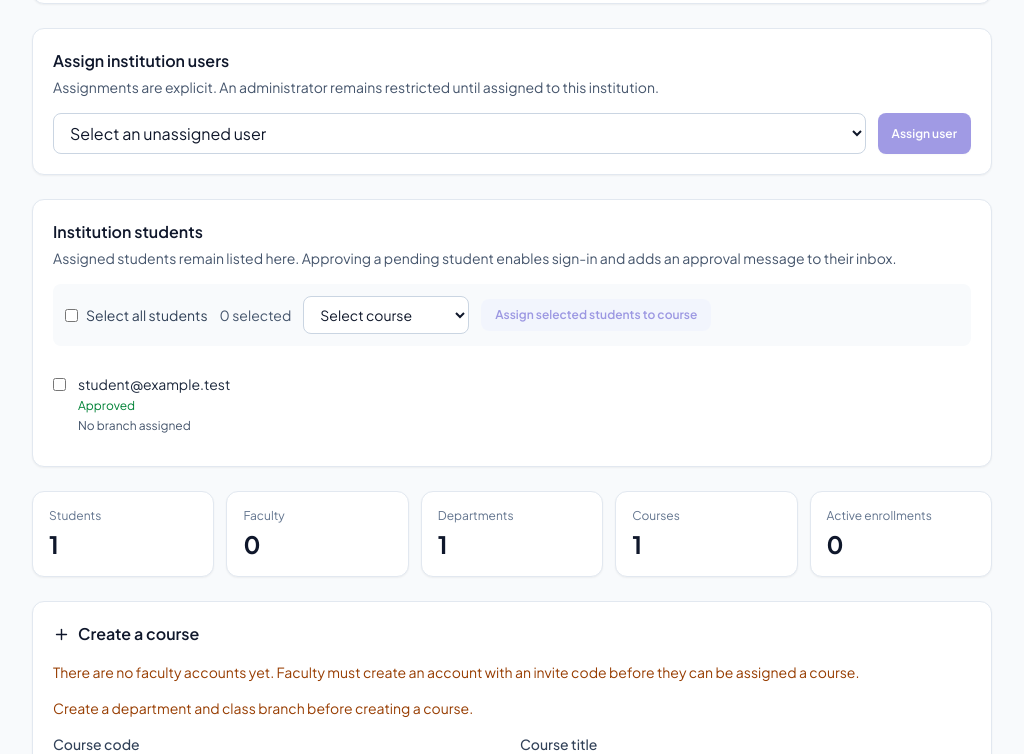
Test: admin student branch assignment › assigns selected students directly to a course without requiring a branch
(page scrolled)
Click the checkbox named "Select student@example.test". click: (60, 384)
box: [53,378,66,391]
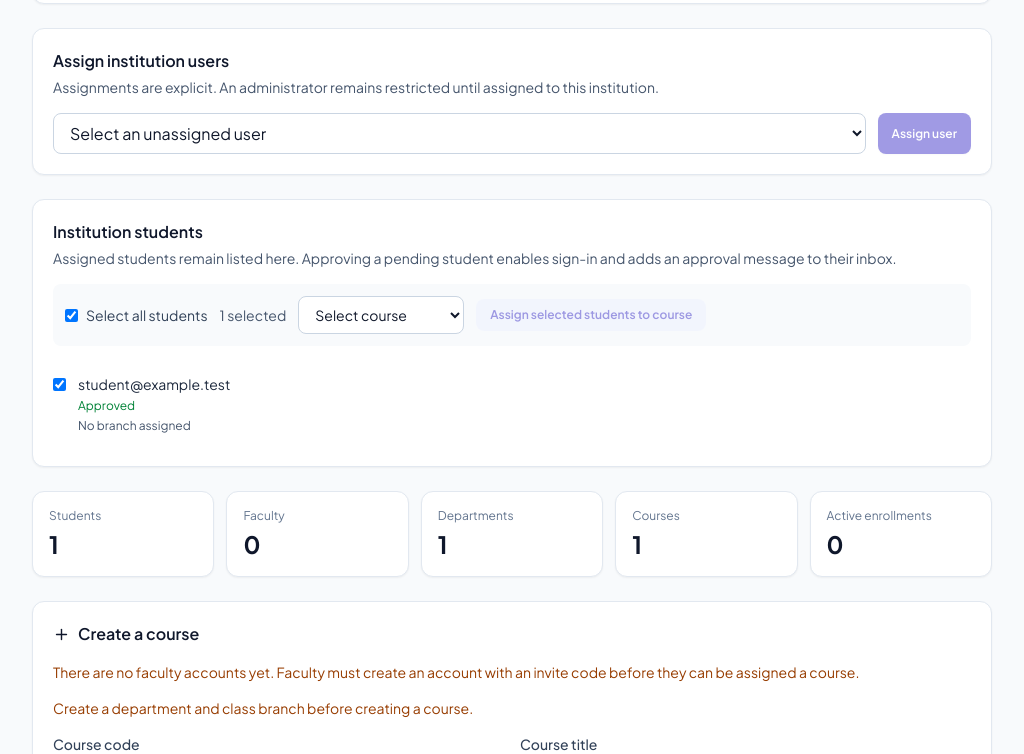
Select "CS101 · Intro to CS" in the dropdown named "Course for selected students". click: (381, 315)
box: [298,296,464,334]
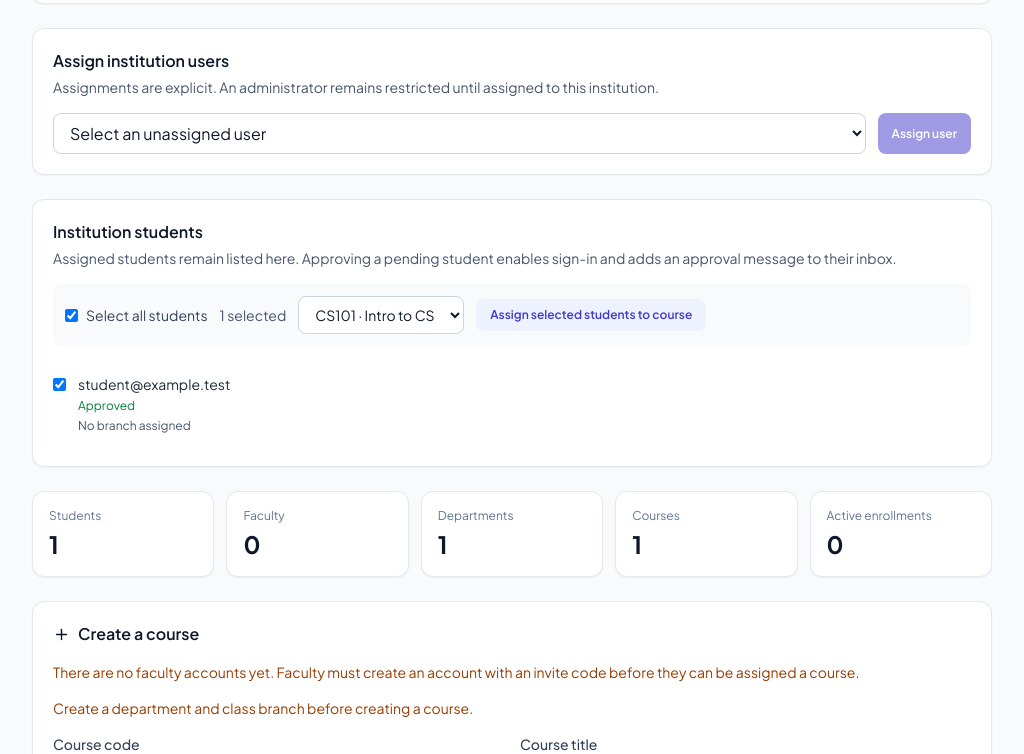
Click the button "Assign selected students to course". click: (591, 315)
box: [476,299,706,331]
(page scrolled)
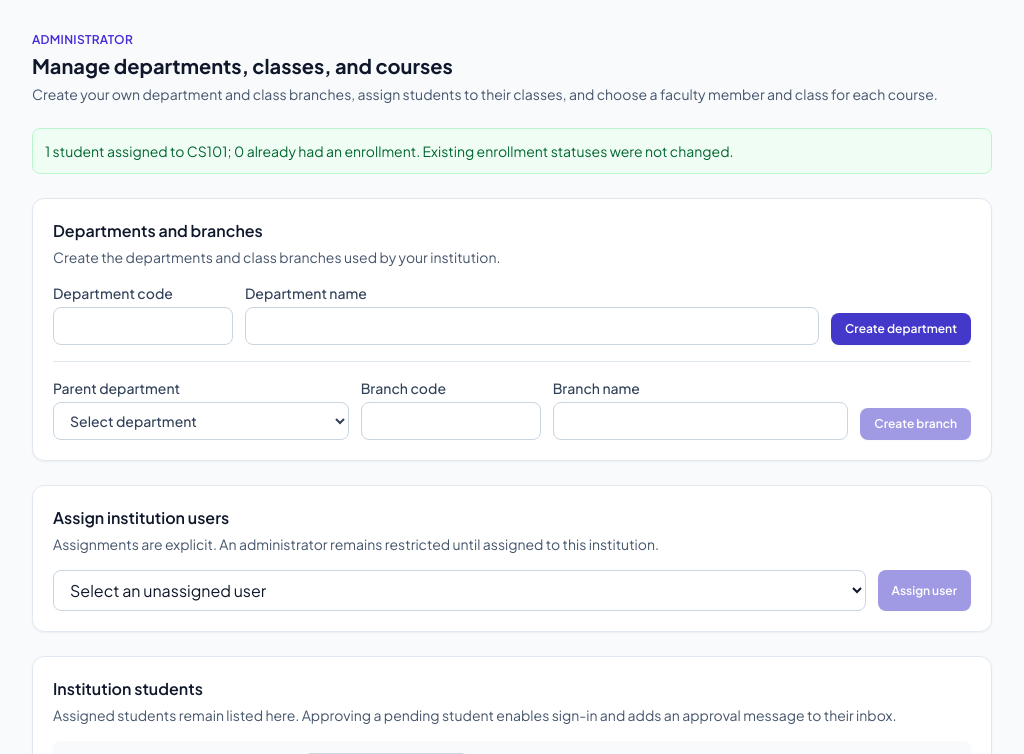
Expected: the message shows "1 student assigned to CS101; 0 already had an enrollment.", [45,142,734,160]
